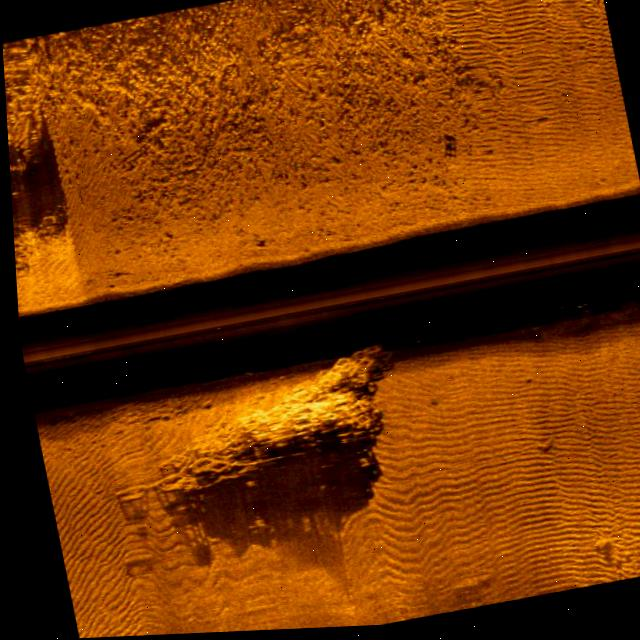artificial reef: (84, 343, 412, 513)
